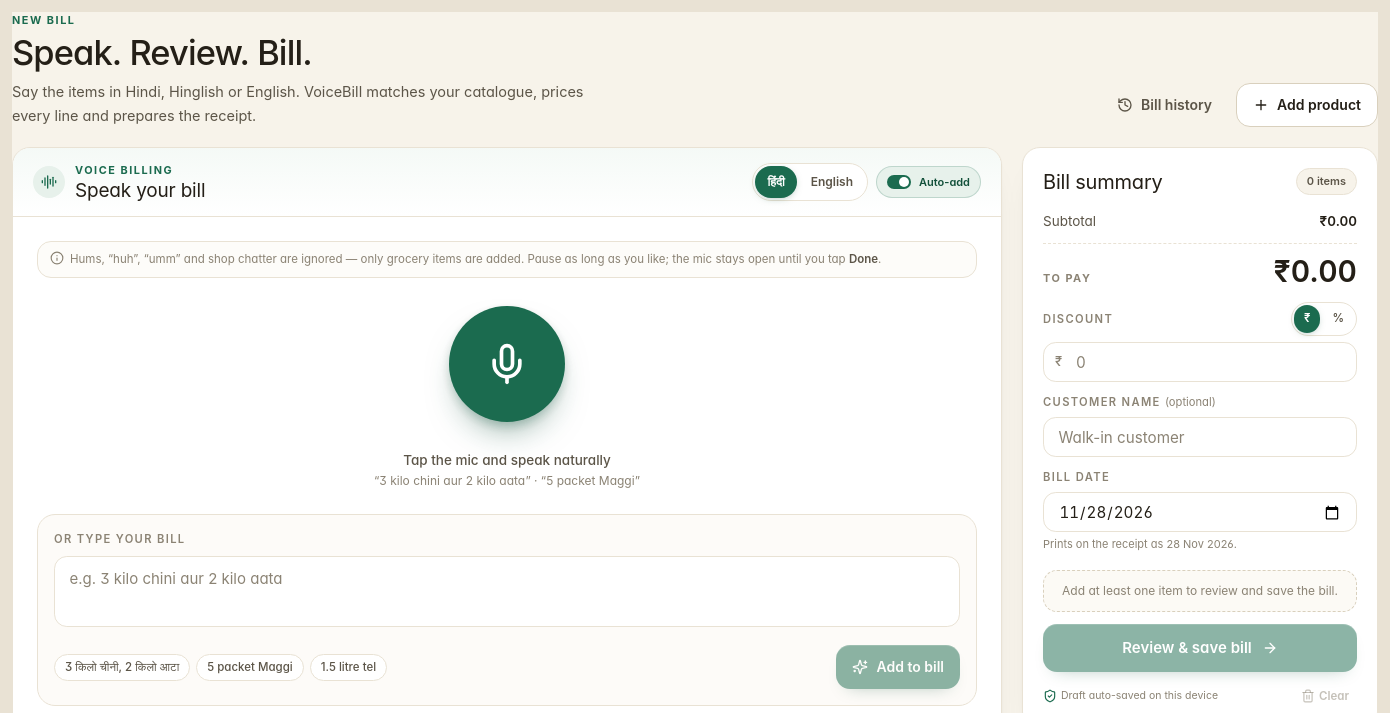
Test: new bill workspace › adds several products from one spoken sentence
Click the button named "start voice input" at (507, 364), box [449,306,565,422]
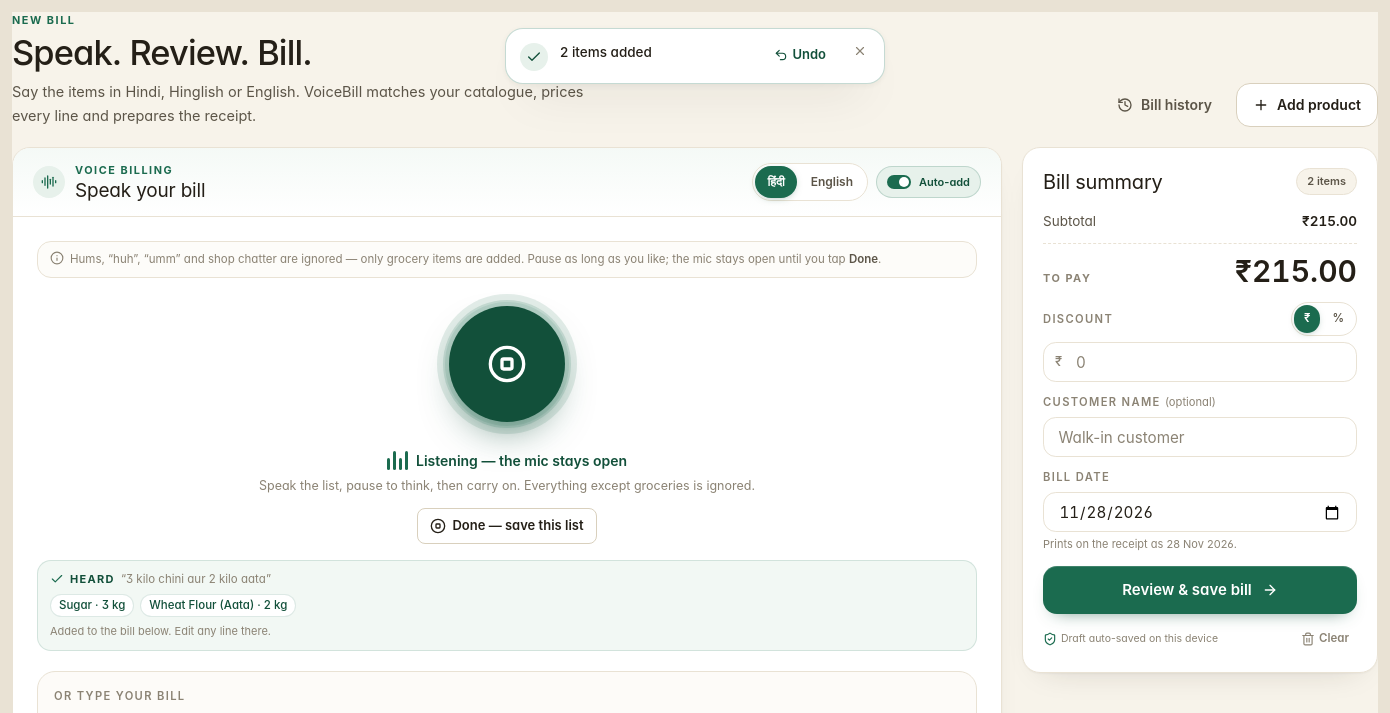
expect the text "₹215.00" in the row of "Subtotal" is shown: met, box [1302,213,1357,229]
